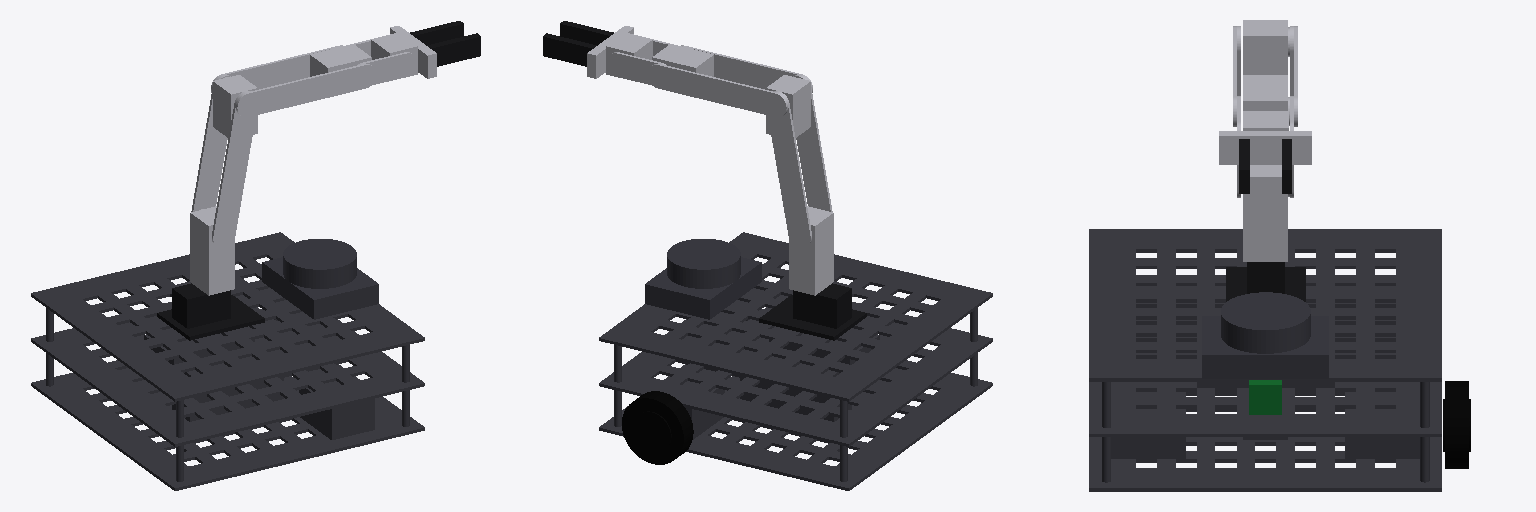
robot.urdf — tb3_omx:
<?xml version="1.0" encoding="utf-8"?>
<!-- TurtleBot3 Waffle Pi + OpenMANIPULATOR-X mobile manipulator
     Generated by build_models.py (CAD -> URDF). Meshes in package://tb3_omx_description/meshes -->
<robot name="tb3_omx">
  <link name="base_footprint"/>
  <link name="base_link">
    <inertial>
      <origin xyz="-0.0540003 0 0.0415757" rpy="0 0 0"/>
      <mass value="1.3729"/>
      <inertia ixx="0.00876075" ixy="0" ixz="0.000415338" iyy="0.00777029" iyz="0" izz="0.0137839"/>
    </inertial>
    <visual>
      <origin xyz="0 0 0" rpy="0 0 0"/>
      <geometry>
        <mesh filename="package://tb3_omx_description/meshes/base_link.STL"/>
      </geometry>
      <material name="base_link_material">
        <color rgba="0.26 0.26 0.29 1"/>
      </material>
    </visual>
    <collision>
      <origin xyz="-0.064 0 0.047" rpy="0 0 0"/>
      <geometry>
        <box size="0.266 0.266 0.094"/>
      </geometry>
    </collision>
  </link>
  <link name="wheel_left_link">
    <inertial>
      <origin xyz="0 0 0" rpy="0 0 0"/>
      <mass value="0.0285"/>
      <inertia ixx="7.13935e-06" ixy="0" ixz="0" iyy="1.2573e-05" iyz="0" izz="7.13935e-06"/>
    </inertial>
    <visual>
      <origin xyz="0 0 0" rpy="0 0 0"/>
      <geometry>
        <mesh filename="package://tb3_omx_description/meshes/wheel_left_link.STL"/>
      </geometry>
      <material name="wheel_left_link_material">
        <color rgba="0.05 0.05 0.05 1"/>
      </material>
    </visual>
    <collision>
      <origin xyz="0 0 0" rpy="1.5708 0 0"/>
      <geometry>
        <cylinder radius="0.033" length="0.018"/>
      </geometry>
    </collision>
  </link>
  <link name="wheel_right_link">
    <inertial>
      <origin xyz="0 0 0" rpy="0 0 0"/>
      <mass value="0.0285"/>
      <inertia ixx="7.13935e-06" ixy="0" ixz="0" iyy="1.2573e-05" iyz="0" izz="7.13935e-06"/>
    </inertial>
    <visual>
      <origin xyz="0 0 0" rpy="0 0 0"/>
      <geometry>
        <mesh filename="package://tb3_omx_description/meshes/wheel_right_link.STL"/>
      </geometry>
      <material name="wheel_right_link_material">
        <color rgba="0.05 0.05 0.05 1"/>
      </material>
    </visual>
    <collision>
      <origin xyz="0 0 0" rpy="1.5708 0 0"/>
      <geometry>
        <cylinder radius="0.033" length="0.018"/>
      </geometry>
    </collision>
  </link>
  <link name="caster_back_left_link">
    <inertial>
      <origin xyz="0 0 0.00105882" rpy="0 0 0"/>
      <mass value="0.005"/>
      <inertia ixx="1e-07" ixy="0" ixz="0" iyy="1e-07" iyz="0" izz="1.41088e-07"/>
    </inertial>
    <visual>
      <origin xyz="0 0 0" rpy="0 0 0"/>
      <geometry>
        <mesh filename="package://tb3_omx_description/meshes/caster_back_left_link.STL"/>
      </geometry>
      <material name="caster_back_left_link_material">
        <color rgba="0.75 0.75 0.78 1"/>
      </material>
    </visual>
    <collision>
      <origin xyz="0 0 0" rpy="0 0 0"/>
      <geometry>
        <sphere radius="0.006"/>
      </geometry>
    </collision>
  </link>
  <link name="caster_back_right_link">
    <inertial>
      <origin xyz="0 0 0.00105882" rpy="0 0 0"/>
      <mass value="0.005"/>
      <inertia ixx="1e-07" ixy="0" ixz="0" iyy="1e-07" iyz="0" izz="1.41088e-07"/>
    </inertial>
    <visual>
      <origin xyz="0 0 0" rpy="0 0 0"/>
      <geometry>
        <mesh filename="package://tb3_omx_description/meshes/caster_back_right_link.STL"/>
      </geometry>
      <material name="caster_back_right_link_material">
        <color rgba="0.75 0.75 0.78 1"/>
      </material>
    </visual>
    <collision>
      <origin xyz="0 0 0" rpy="0 0 0"/>
      <geometry>
        <sphere radius="0.006"/>
      </geometry>
    </collision>
  </link>
  <link name="base_scan">
    <inertial>
      <origin xyz="0.000489081 0 -0.0111291" rpy="0 0 0"/>
      <mass value="0.114"/>
      <inertia ixx="8.17845e-05" ixy="0" ixz="3.83087e-07" iyy="5.52224e-05" iyz="0" izz="0.000109362"/>
    </inertial>
    <visual>
      <origin xyz="0 0 0" rpy="0 0 0"/>
      <geometry>
        <mesh filename="package://tb3_omx_description/meshes/base_scan.STL"/>
      </geometry>
      <material name="base_scan_material">
        <color rgba="0.25 0.25 0.28 1"/>
      </material>
    </visual>
    <collision>
      <origin xyz="0 0 0" rpy="0 0 0"/>
      <geometry>
        <mesh filename="package://tb3_omx_description/meshes/base_scan.STL"/>
      </geometry>
    </collision>
  </link>
  <link name="camera_link">
    <inertial>
      <origin xyz="0 0 0" rpy="0 0 0"/>
      <mass value="0.005"/>
      <inertia ixx="5.20833e-07" ixy="0" ixz="0" iyy="2.87083e-07" iyz="0" izz="2.87083e-07"/>
    </inertial>
    <visual>
      <origin xyz="0 0 0" rpy="0 0 0"/>
      <geometry>
        <mesh filename="package://tb3_omx_description/meshes/camera_link.STL"/>
      </geometry>
      <material name="camera_link_material">
        <color rgba="0.1 0.45 0.2 1"/>
      </material>
    </visual>
    <collision>
      <origin xyz="0 0 0" rpy="0 0 0"/>
      <geometry>
        <mesh filename="package://tb3_omx_description/meshes/camera_link.STL"/>
      </geometry>
    </collision>
  </link>
  <link name="link1">
    <inertial>
      <origin xyz="0.00314508 0 0.0129189" rpy="0 0 0"/>
      <mass value="0.079"/>
      <inertia ixx="2.03332e-05" ixy="0" ixz="2.15913e-06" iyy="3.36045e-05" iyz="0" izz="3.46388e-05"/>
    </inertial>
    <visual>
      <origin xyz="0 0 0" rpy="0 0 0"/>
      <geometry>
        <mesh filename="package://tb3_omx_description/meshes/link1.STL"/>
      </geometry>
      <material name="link1_material">
        <color rgba="0.12 0.12 0.13 1"/>
      </material>
    </visual>
    <collision>
      <origin xyz="0 0 0" rpy="0 0 0"/>
      <geometry>
        <mesh filename="package://tb3_omx_description/meshes/link1.STL"/>
      </geometry>
    </collision>
  </link>
  <link name="link2">
    <inertial>
      <origin xyz="0 0.000299939 0.0356827" rpy="0 0 0"/>
      <mass value="0.098"/>
      <inertia ixx="5.06793e-05" ixy="0" ixz="0" iyy="4.74134e-05" iyz="-7.00086e-07" izz="1.63817e-05"/>
    </inertial>
    <visual>
      <origin xyz="0 0 0" rpy="0 0 0"/>
      <geometry>
        <mesh filename="package://tb3_omx_description/meshes/link2.STL"/>
      </geometry>
      <material name="link2_material">
        <color rgba="0.75 0.75 0.78 1"/>
      </material>
    </visual>
    <collision>
      <origin xyz="0 0 0" rpy="0 0 0"/>
      <geometry>
        <mesh filename="package://tb3_omx_description/meshes/link2.STL"/>
      </geometry>
    </collision>
  </link>
  <link name="link3">
    <inertial>
      <origin xyz="0.0201929 0.000311785 0.099705" rpy="0 0 0"/>
      <mass value="0.138"/>
      <inertia ixx="0.000204587" ixy="-1.63804e-07" ixz="-3.31333e-05" iyy="0.00019273" iyz="-1.21743e-06" izz="4.25071e-05"/>
    </inertial>
    <visual>
      <origin xyz="0 0 0" rpy="0 0 0"/>
      <geometry>
        <mesh filename="package://tb3_omx_description/meshes/link3.STL"/>
      </geometry>
      <material name="link3_material">
        <color rgba="0.75 0.75 0.78 1"/>
      </material>
    </visual>
    <collision>
      <origin xyz="0 0 0" rpy="0 0 0"/>
      <geometry>
        <mesh filename="package://tb3_omx_description/meshes/link3.STL"/>
      </geometry>
    </collision>
  </link>
  <link name="link4">
    <inertial>
      <origin xyz="0.0968009 0.000315974 0" rpy="0 0 0"/>
      <mass value="0.133"/>
      <inertia ixx="3.91644e-05" ixy="-1.14303e-06" ixz="0" iyy="0.000166294" iyz="0" izz="0.000189366"/>
    </inertial>
    <visual>
      <origin xyz="0 0 0" rpy="0 0 0"/>
      <geometry>
        <mesh filename="package://tb3_omx_description/meshes/link4.STL"/>
      </geometry>
      <material name="link4_material">
        <color rgba="0.75 0.75 0.78 1"/>
      </material>
    </visual>
    <collision>
      <origin xyz="0 0 0" rpy="0 0 0"/>
      <geometry>
        <mesh filename="package://tb3_omx_description/meshes/link4.STL"/>
      </geometry>
    </collision>
  </link>
  <link name="link5">
    <inertial>
      <origin xyz="0.0473048 0 0" rpy="0 0 0"/>
      <mass value="0.143"/>
      <inertia ixx="4.30659e-05" ixy="0" ixz="0" iyy="5.0842e-05" iyz="0" izz="7.72551e-05"/>
    </inertial>
    <visual>
      <origin xyz="0 0 0" rpy="0 0 0"/>
      <geometry>
        <mesh filename="package://tb3_omx_description/meshes/link5.STL"/>
      </geometry>
      <material name="link5_material">
        <color rgba="0.75 0.75 0.78 1"/>
      </material>
    </visual>
    <collision>
      <origin xyz="0 0 0" rpy="0 0 0"/>
      <geometry>
        <mesh filename="package://tb3_omx_description/meshes/link5.STL"/>
      </geometry>
    </collision>
  </link>
  <link name="gripper_left_link">
    <inertial>
      <origin xyz="0.0163 -0.005 0" rpy="0 0 0"/>
      <mass value="0.01"/>
      <inertia ixx="3.86667e-07" ixy="0" ixz="0" iyy="2.94667e-06" iyz="0" izz="2.66667e-06"/>
    </inertial>
    <visual>
      <origin xyz="0 0 0" rpy="0 0 0"/>
      <geometry>
        <mesh filename="package://tb3_omx_description/meshes/gripper_left_link.STL"/>
      </geometry>
      <material name="gripper_left_link_material">
        <color rgba="0.12 0.12 0.13 1"/>
      </material>
    </visual>
    <collision>
      <origin xyz="0 0 0" rpy="0 0 0"/>
      <geometry>
        <mesh filename="package://tb3_omx_description/meshes/gripper_left_link.STL"/>
      </geometry>
    </collision>
  </link>
  <link name="gripper_right_link">
    <inertial>
      <origin xyz="0.0163 0.005 0" rpy="0 0 0"/>
      <mass value="0.01"/>
      <inertia ixx="3.86667e-07" ixy="0" ixz="0" iyy="2.94667e-06" iyz="0" izz="2.66667e-06"/>
    </inertial>
    <visual>
      <origin xyz="0 0 0" rpy="0 0 0"/>
      <geometry>
        <mesh filename="package://tb3_omx_description/meshes/gripper_right_link.STL"/>
      </geometry>
      <material name="gripper_right_link_material">
        <color rgba="0.12 0.12 0.13 1"/>
      </material>
    </visual>
    <collision>
      <origin xyz="0 0 0" rpy="0 0 0"/>
      <geometry>
        <mesh filename="package://tb3_omx_description/meshes/gripper_right_link.STL"/>
      </geometry>
    </collision>
  </link>
  <link name="end_effector_link"/>
  <joint name="base_joint" type="fixed">
    <origin xyz="0 0 0.01" rpy="0 0 0"/>
    <parent link="base_footprint"/>
    <child link="base_link"/>
  </joint>
  <joint name="wheel_left_joint" type="continuous">
    <origin xyz="0 0.144 0.023" rpy="0 0 0"/>
    <parent link="base_link"/>
    <child link="wheel_left_link"/>
    <axis xyz="0 1 0"/>
    <limit effort="10" velocity="10"/>
    <dynamics damping="0.1" friction="0.0"/>
  </joint>
  <joint name="wheel_right_joint" type="continuous">
    <origin xyz="0 -0.144 0.023" rpy="0 0 0"/>
    <parent link="base_link"/>
    <child link="wheel_right_link"/>
    <axis xyz="0 1 0"/>
    <limit effort="10" velocity="10"/>
    <dynamics damping="0.1" friction="0.0"/>
  </joint>
  <joint name="caster_back_left_joint" type="fixed">
    <origin xyz="-0.177 0.064 -0.004" rpy="0 0 0"/>
    <parent link="base_link"/>
    <child link="caster_back_left_link"/>
  </joint>
  <joint name="caster_back_right_joint" type="fixed">
    <origin xyz="-0.177 -0.064 -0.004" rpy="0 0 0"/>
    <parent link="base_link"/>
    <child link="caster_back_right_link"/>
  </joint>
  <joint name="scan_joint" type="fixed">
    <origin xyz="0.034 0 0.122" rpy="0 0 0"/>
    <parent link="base_link"/>
    <child link="base_scan"/>
  </joint>
  <joint name="camera_joint" type="fixed">
    <origin xyz="0.073 0 0.08" rpy="0 0 0"/>
    <parent link="base_link"/>
    <child link="camera_link"/>
  </joint>
  <joint name="omx_mount_joint" type="fixed">
    <origin xyz="-0.092 0 0.094" rpy="0 0 0"/>
    <parent link="base_link"/>
    <child link="link1"/>
  </joint>
  <joint name="joint1" type="revolute">
    <origin xyz="0.012 0 0.034" rpy="0 0 0"/>
    <parent link="link1"/>
    <child link="link2"/>
    <axis xyz="0 0 1"/>
    <limit lower="-2.83" upper="2.83" effort="1" velocity="4.8"/>
    <dynamics damping="0.1" friction="0.0"/>
  </joint>
  <joint name="joint2" type="revolute">
    <origin xyz="0 0 0.0595" rpy="0 0 0"/>
    <parent link="link2"/>
    <child link="link3"/>
    <axis xyz="0 1 0"/>
    <limit lower="-1.79" upper="1.57" effort="1" velocity="4.8"/>
    <dynamics damping="0.1" friction="0.0"/>
  </joint>
  <joint name="joint3" type="revolute">
    <origin xyz="0.024 0 0.128" rpy="0 0 0"/>
    <parent link="link3"/>
    <child link="link4"/>
    <axis xyz="0 1 0"/>
    <limit lower="-0.94" upper="1.38" effort="1" velocity="4.8"/>
    <dynamics damping="0.1" friction="0.0"/>
  </joint>
  <joint name="joint4" type="revolute">
    <origin xyz="0.124 0 0" rpy="0 0 0"/>
    <parent link="link4"/>
    <child link="link5"/>
    <axis xyz="0 1 0"/>
    <limit lower="-1.79" upper="2.04" effort="1" velocity="4.8"/>
    <dynamics damping="0.1" friction="0.0"/>
  </joint>
  <joint name="gripper_left_joint" type="prismatic">
    <origin xyz="0.0817 0.021 0" rpy="0 0 0"/>
    <parent link="link5"/>
    <child link="gripper_left_link"/>
    <axis xyz="0 1 0"/>
    <limit lower="-0.01" upper="0.019" effort="1" velocity="4.8"/>
    <dynamics damping="0.1" friction="0.0"/>
  </joint>
  <joint name="gripper_right_joint" type="prismatic">
    <origin xyz="0.0817 -0.021 0" rpy="0 0 0"/>
    <parent link="link5"/>
    <child link="gripper_right_link"/>
    <axis xyz="0 -1 0"/>
    <limit lower="-0.01" upper="0.019" effort="1" velocity="4.8"/>
    <dynamics damping="0.1" friction="0.0"/>
  </joint>
  <joint name="end_effector_joint" type="fixed">
    <origin xyz="0.126 0 0" rpy="0 0 0"/>
    <parent link="link5"/>
    <child link="end_effector_link"/>
  </joint>
</robot>

--- Render facts (derived) ---
The picture shows the robot from 3 angles, left to right: view 1: azimuth 30°, elevation 25°; view 2: azimuth 150°, elevation 25°; view 3: azimuth 270°, elevation 25°; orthographic projection.
Model tb3_omx with 16 links and 15 joints (4 revolute, 2 continuous, 2 prismatic, 7 fixed), rooted at base_footprint, posed all joints at 0.
Links seen in each view (by area): view 1: base_link, link3, base_scan, link4, link1, link2, link5, gripper_right_link, gripper_left_link; view 2: base_link, link3, base_scan, link4, wheel_left_link, link1, link2, link5, gripper_left_link, gripper_right_link; view 3: base_link, base_scan, link2, link5, link3, link4, link1, wheel_left_link, camera_link, gripper_right_link, gripper_left_link.
Link boxes in pixels (bbox=[...]): base_link: bbox=[31, 232, 424, 490]; link3: bbox=[191, 75, 257, 247]; base_scan: bbox=[262, 239, 378, 319]; link4: bbox=[211, 44, 376, 117]; link1: bbox=[157, 283, 264, 340]; link2: bbox=[190, 206, 234, 295]; link5: bbox=[346, 26, 436, 85]; gripper_right_link: bbox=[427, 33, 480, 66]; gripper_left_link: bbox=[410, 21, 463, 45]; base_link: bbox=[599, 232, 992, 490]; link3: bbox=[766, 75, 832, 247]; base_scan: bbox=[645, 239, 761, 319]; link4: bbox=[647, 44, 812, 117]; wheel_left_link: bbox=[622, 391, 693, 464]; link1: bbox=[759, 283, 866, 340]; link2: bbox=[789, 206, 833, 295]; link5: bbox=[587, 26, 677, 85]; gripper_left_link: bbox=[543, 33, 596, 66]; gripper_right_link: bbox=[560, 21, 613, 45]; base_link: bbox=[1089, 229, 1441, 491]; base_scan: bbox=[1202, 292, 1328, 378]; link2: bbox=[1243, 165, 1289, 261]; link5: bbox=[1219, 96, 1311, 164]; link3: bbox=[1237, 20, 1293, 197]; link4: bbox=[1233, 26, 1297, 126]; link1: bbox=[1226, 262, 1305, 301]; wheel_left_link: bbox=[1443, 381, 1470, 468]; camera_link: bbox=[1249, 380, 1281, 414]; gripper_right_link: bbox=[1239, 139, 1249, 193]; gripper_left_link: bbox=[1282, 139, 1291, 193].
Size in the robot's own frame: 0.391 by 0.2875 by 0.3398 metres.
12 mesh visuals loaded from 14 distinct referenced files (12 binary STL); not drawn: 2 (reference not matched to a file when rendering).
